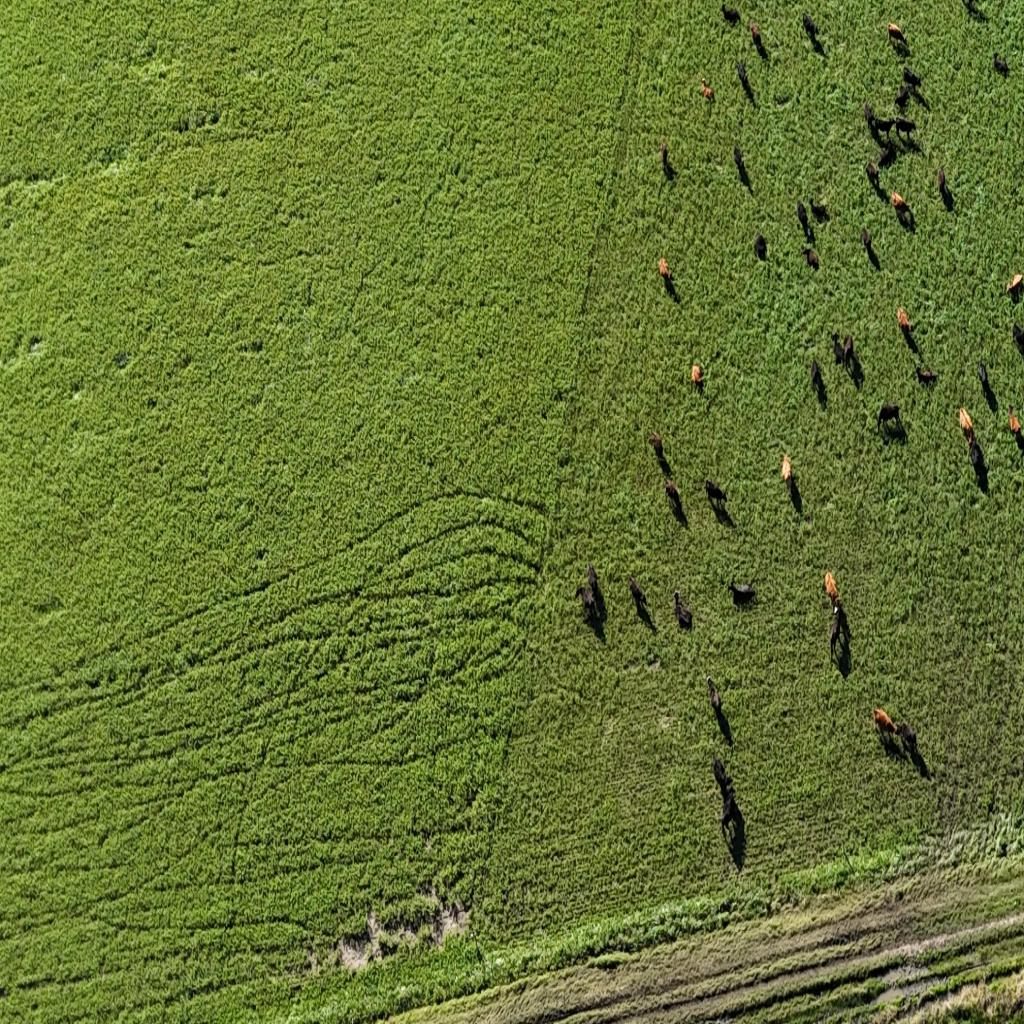cow: (711, 755, 741, 839), (828, 599, 852, 667), (903, 726, 929, 772), (873, 707, 898, 751), (629, 572, 652, 616), (877, 404, 905, 439), (709, 678, 729, 726), (586, 566, 605, 614), (574, 585, 596, 625), (970, 437, 988, 484), (890, 191, 912, 227), (896, 305, 916, 344), (732, 142, 750, 185), (664, 480, 684, 518), (730, 576, 756, 605), (865, 160, 887, 194), (674, 590, 693, 629), (802, 12, 822, 49), (704, 478, 728, 508), (736, 60, 754, 98), (896, 723, 916, 756), (893, 118, 918, 144), (1005, 408, 1022, 446), (811, 357, 826, 400), (887, 21, 908, 50), (824, 570, 840, 608), (780, 453, 794, 496), (870, 115, 894, 140), (750, 24, 767, 58), (959, 406, 974, 444), (938, 165, 952, 205), (796, 200, 810, 239), (1004, 272, 1023, 300), (658, 256, 674, 288), (861, 224, 876, 258), (832, 332, 847, 366), (721, 2, 742, 26), (877, 143, 895, 171), (914, 364, 939, 384), (710, 753, 726, 784), (649, 430, 665, 460), (660, 142, 674, 176), (902, 66, 922, 89), (810, 198, 829, 222), (992, 52, 1010, 76), (843, 334, 855, 370), (802, 246, 819, 270), (961, 0, 983, 18), (894, 84, 909, 110), (753, 234, 767, 260), (691, 362, 704, 388), (863, 100, 875, 128), (978, 359, 989, 389), (700, 74, 713, 98), (1017, 322, 1024, 357), (749, 22, 759, 40)
